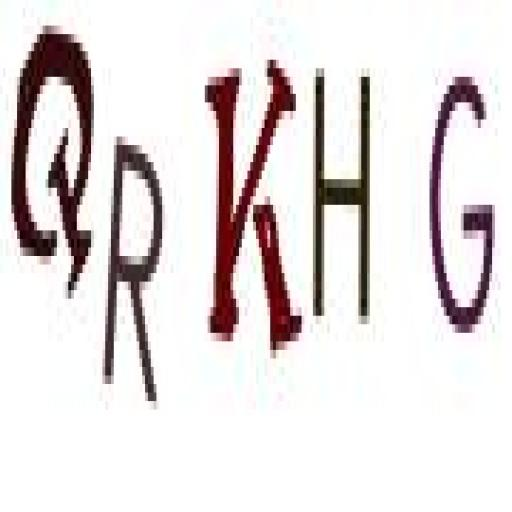G: (428, 52, 504, 356)
H: (310, 57, 376, 342)
K: (196, 44, 304, 371)
Q: (6, 7, 99, 319)
R: (98, 106, 172, 430)
